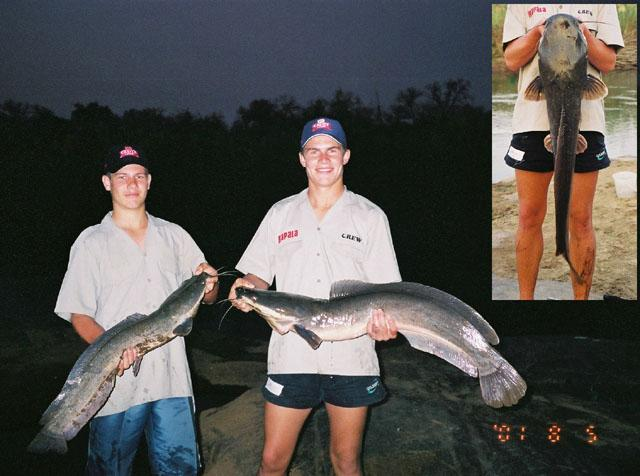Sirip Dada: (516, 68, 616, 118), (284, 316, 336, 363), (165, 307, 201, 349)
Sirip Ekor: (11, 410, 104, 474), (466, 350, 542, 418), (542, 229, 600, 297)
Sirip Perut: (532, 130, 596, 164)
Sirip Punggung: (320, 265, 508, 351), (29, 302, 154, 428)
